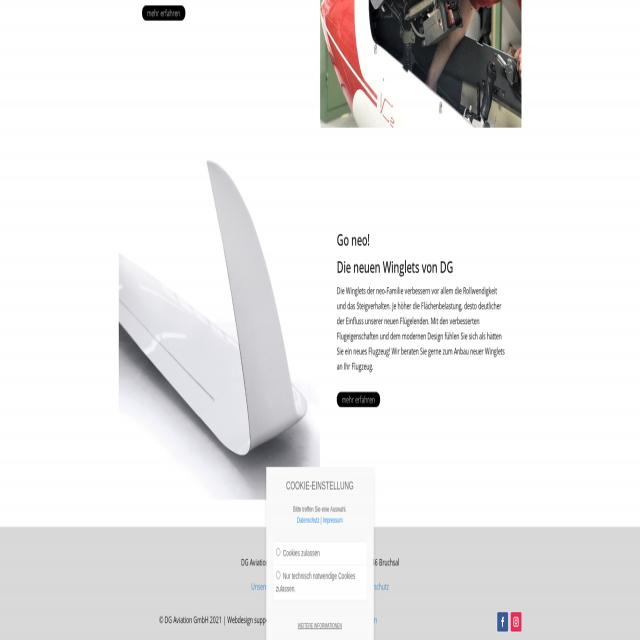button: (116, 156, 320, 498), (320, 0, 522, 129), (142, 5, 186, 20), (337, 392, 380, 407), (497, 612, 508, 631), (511, 612, 521, 631)
field: (276, 548, 280, 556), (276, 571, 280, 579)
